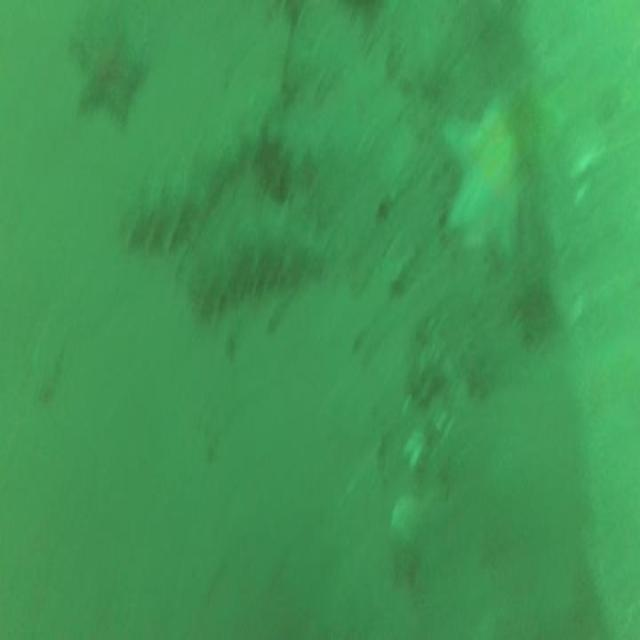holothurian: (192, 210, 321, 316), (122, 138, 235, 238)
starfish: (444, 96, 532, 258), (70, 28, 145, 122)
